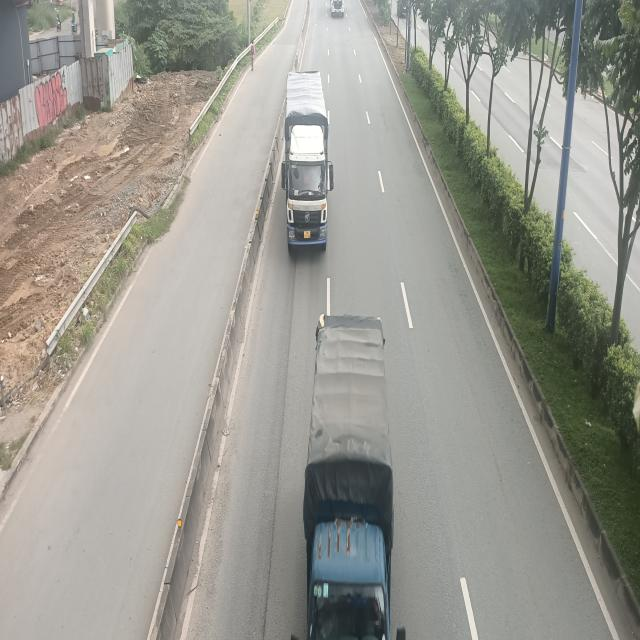truck: (288, 318, 400, 640), (281, 70, 333, 252)
